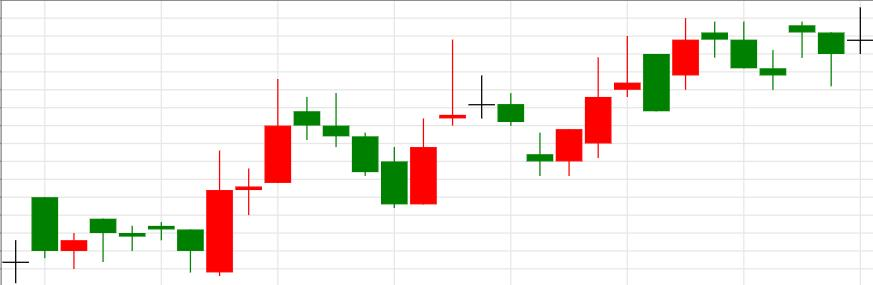bullish_engulfing_rise: (292, 91, 438, 207), (467, 73, 585, 177)
